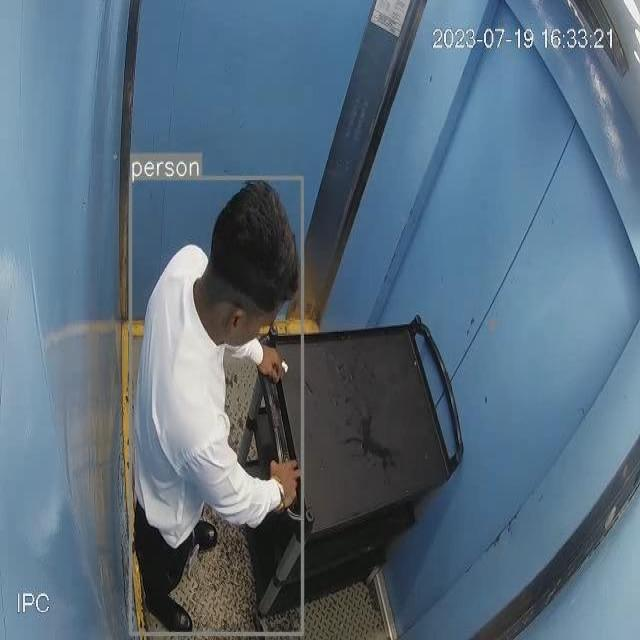person: (131, 177, 303, 634)
